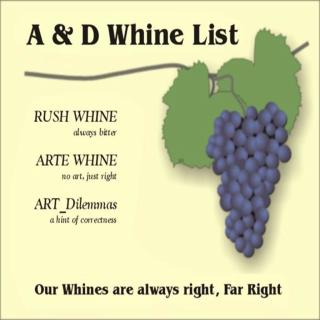Grape: (207, 101, 292, 259)
